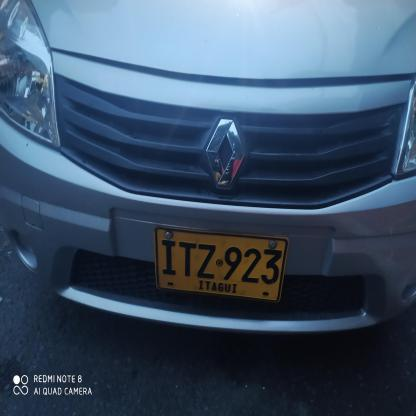placa: (148, 220, 292, 304)
